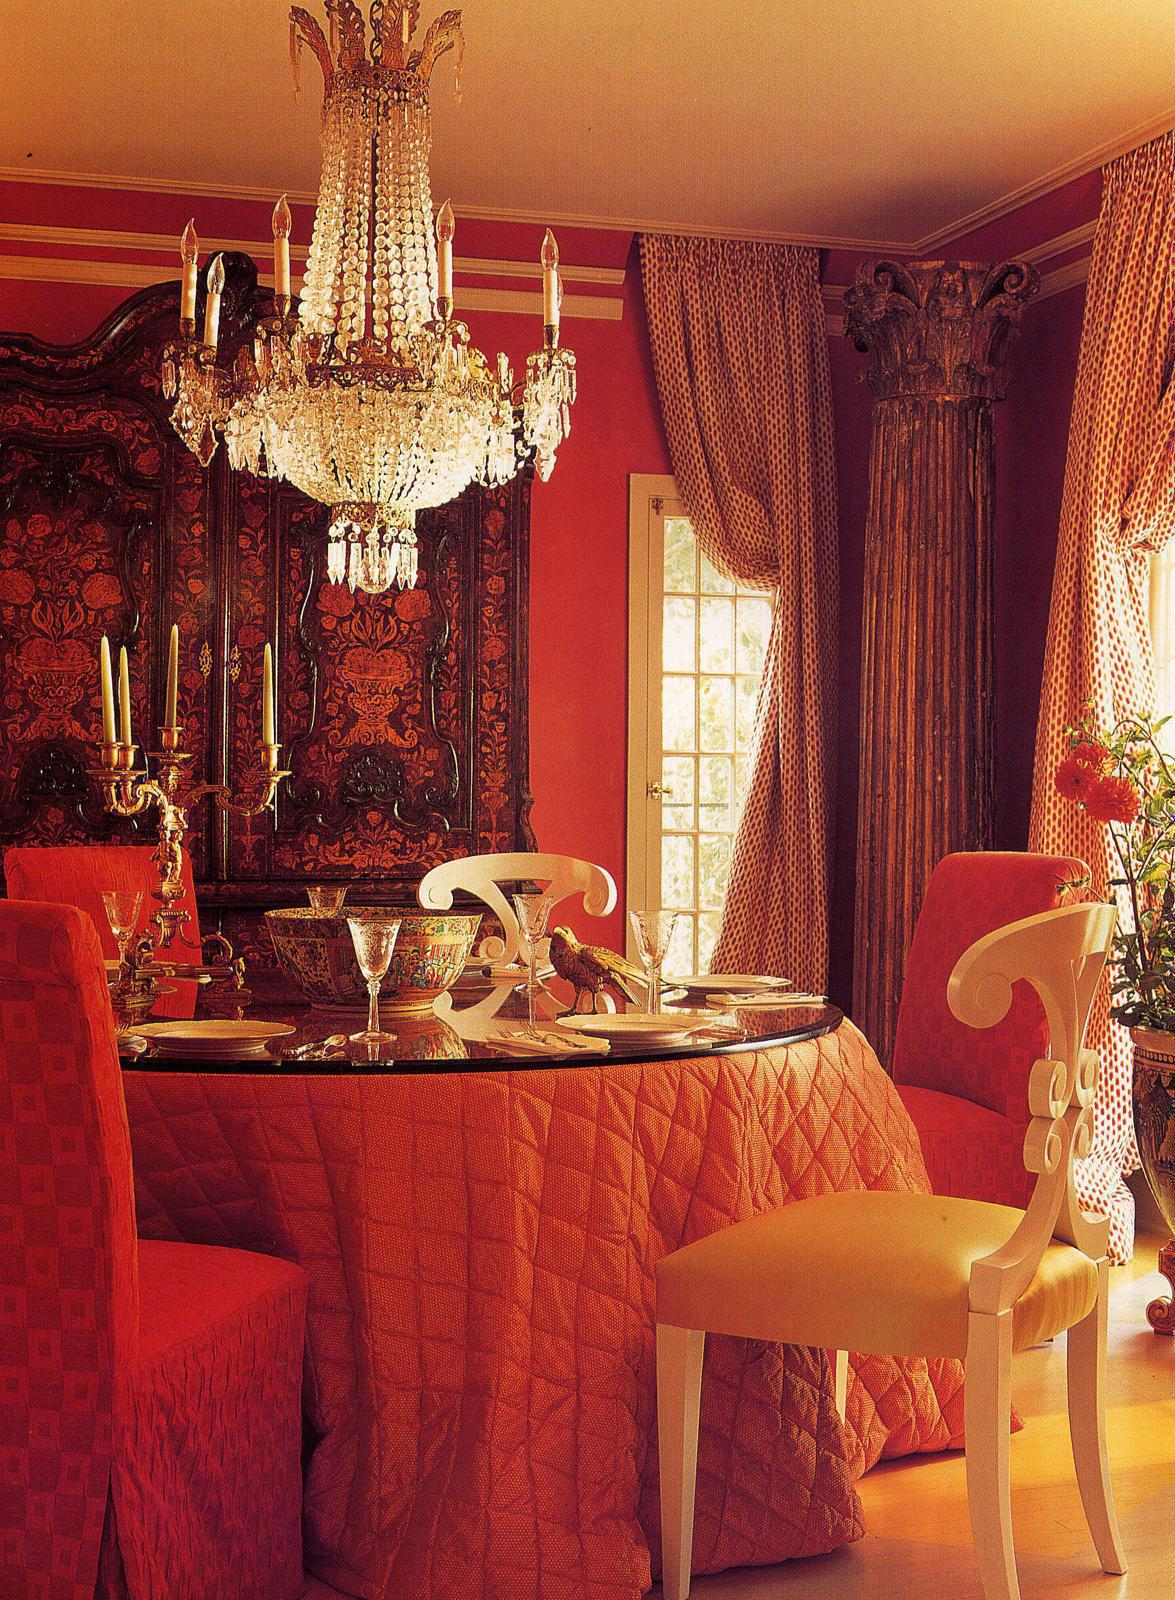Ventana: (640, 499, 830, 1007)
